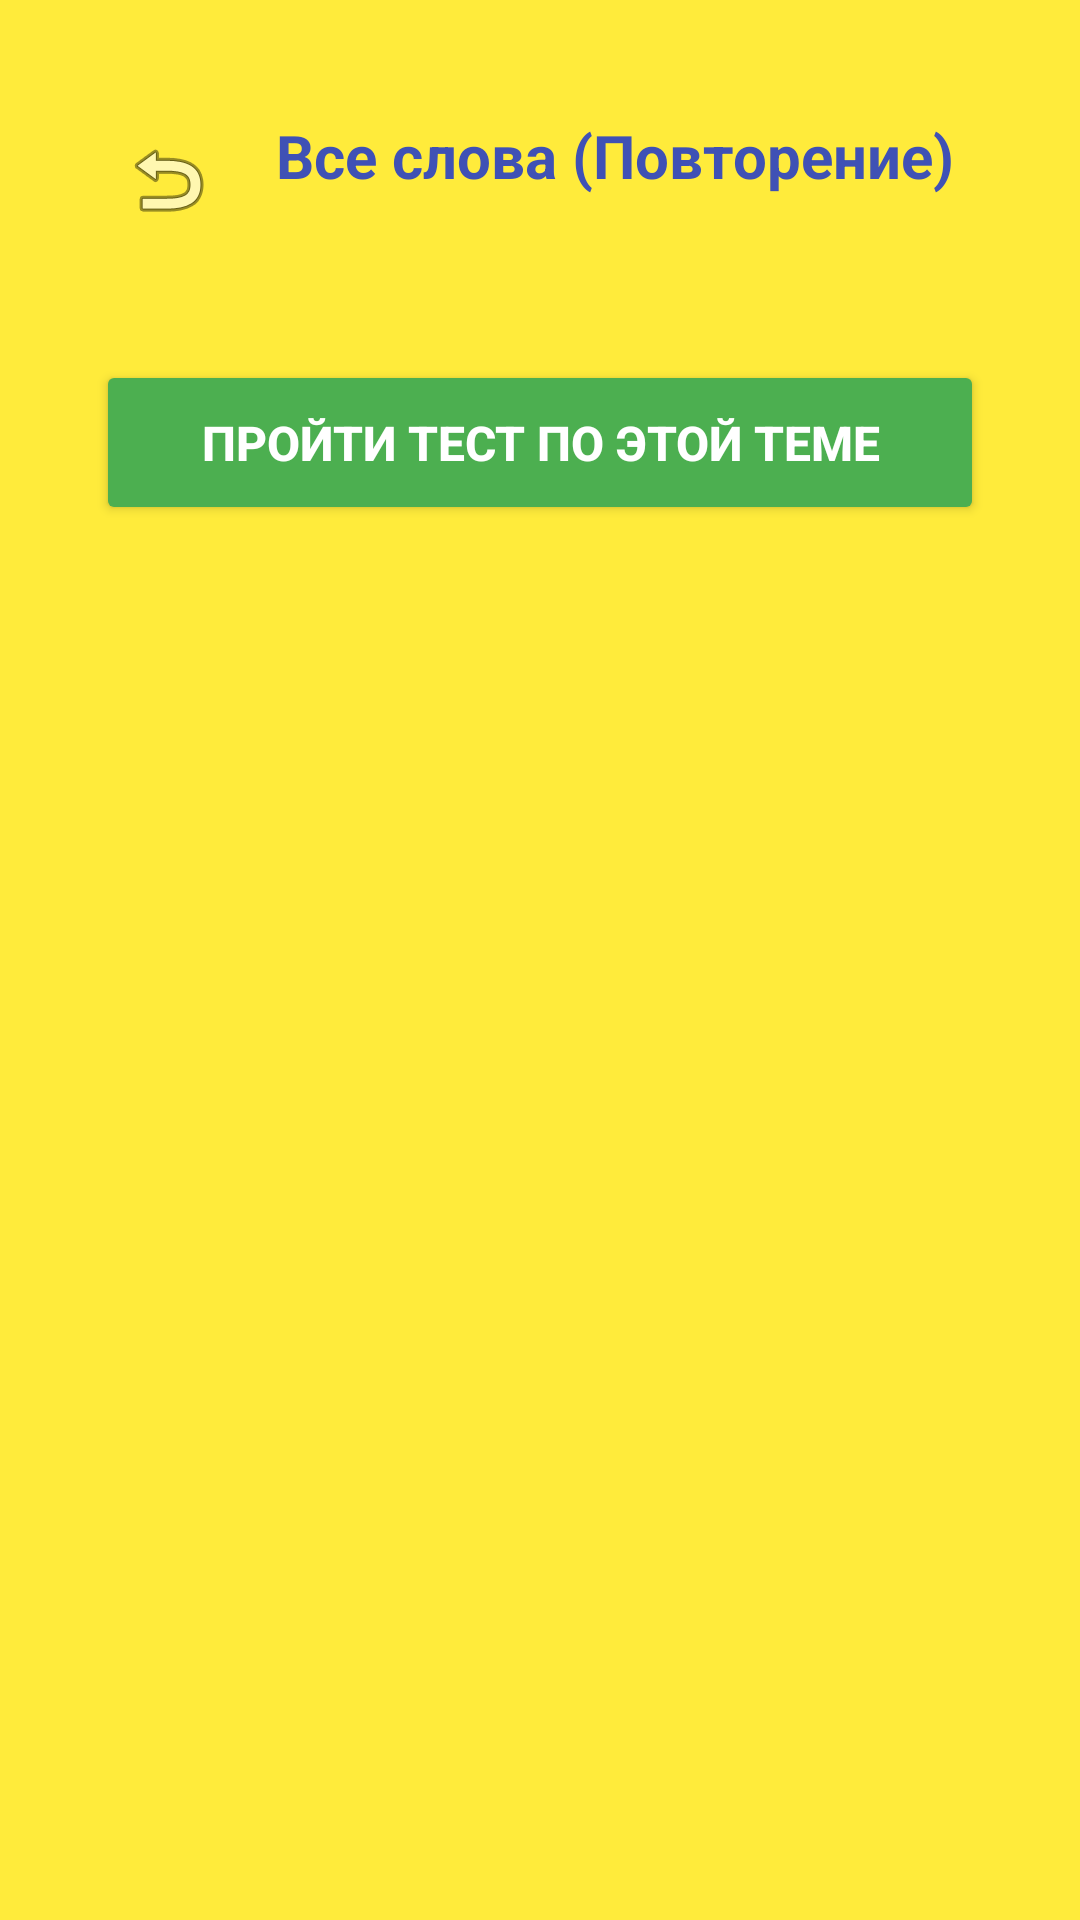

Screen size 1080×1920. Icon name, then its center in pixels as point (x, y):
Назад в меню: point (169, 180)
